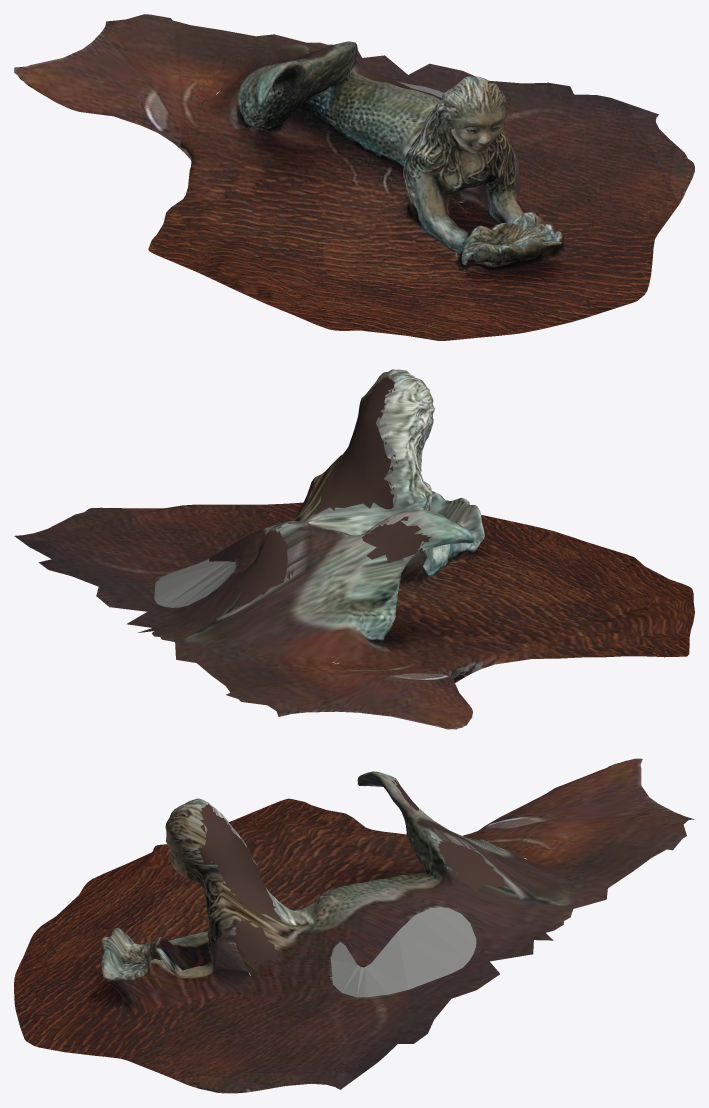
File: meermin.obj
3 renders of one model, top to bottom at view 1: azimuth 30°, elevation 25°; view 2: azimuth 150°, elevation 25°; view 3: azimuth 270°, elevation 25°, orthographic. The views are drawn at different scales.
Parts seen in each view (by area): view 1: meermin; view 2: meermin; view 3: meermin.
Boxes of the visible parts, left/top/right/bottom form: meermin: left=14, top=14, right=694, bottom=340; meermin: left=14, top=369, right=694, bottom=729; meermin: left=14, top=758, right=694, bottom=1093.
Size of the model in its own units: 35.66 by 11.72 by 36.92.
2 materials, 2 textured.
